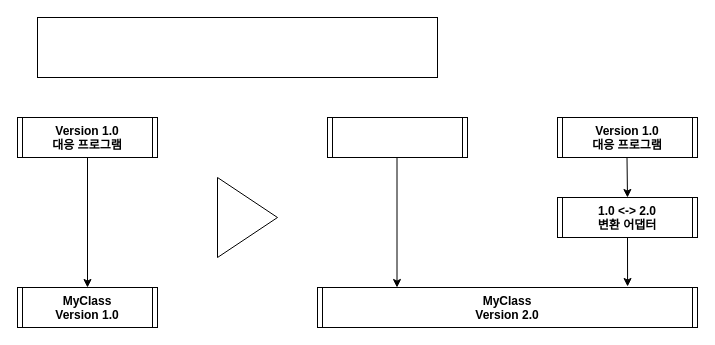
Image size: 715x345. Some labels were removed from this diagram. Each missing label, with the box of its shape:
Version 2.0 대응 프로그램: (326, 116, 468, 158)
구 버전과의 호환성을 위한 Adapter 패턴: (36, 16, 438, 78)
